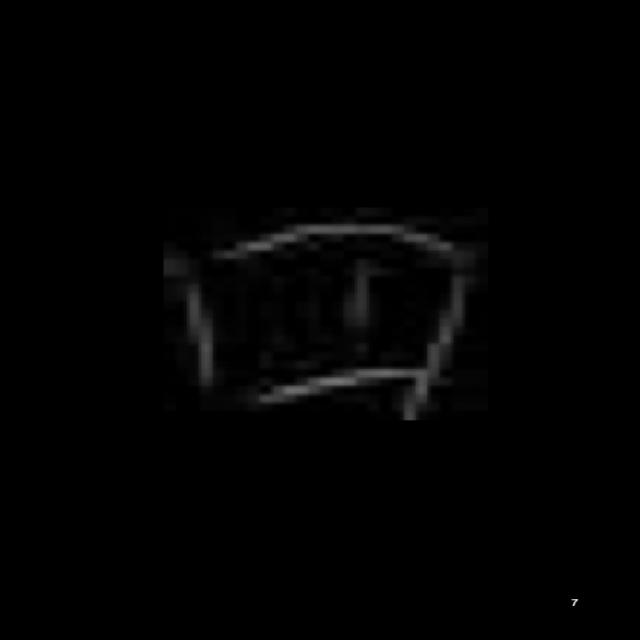4 -four-: (164, 209, 483, 425)
